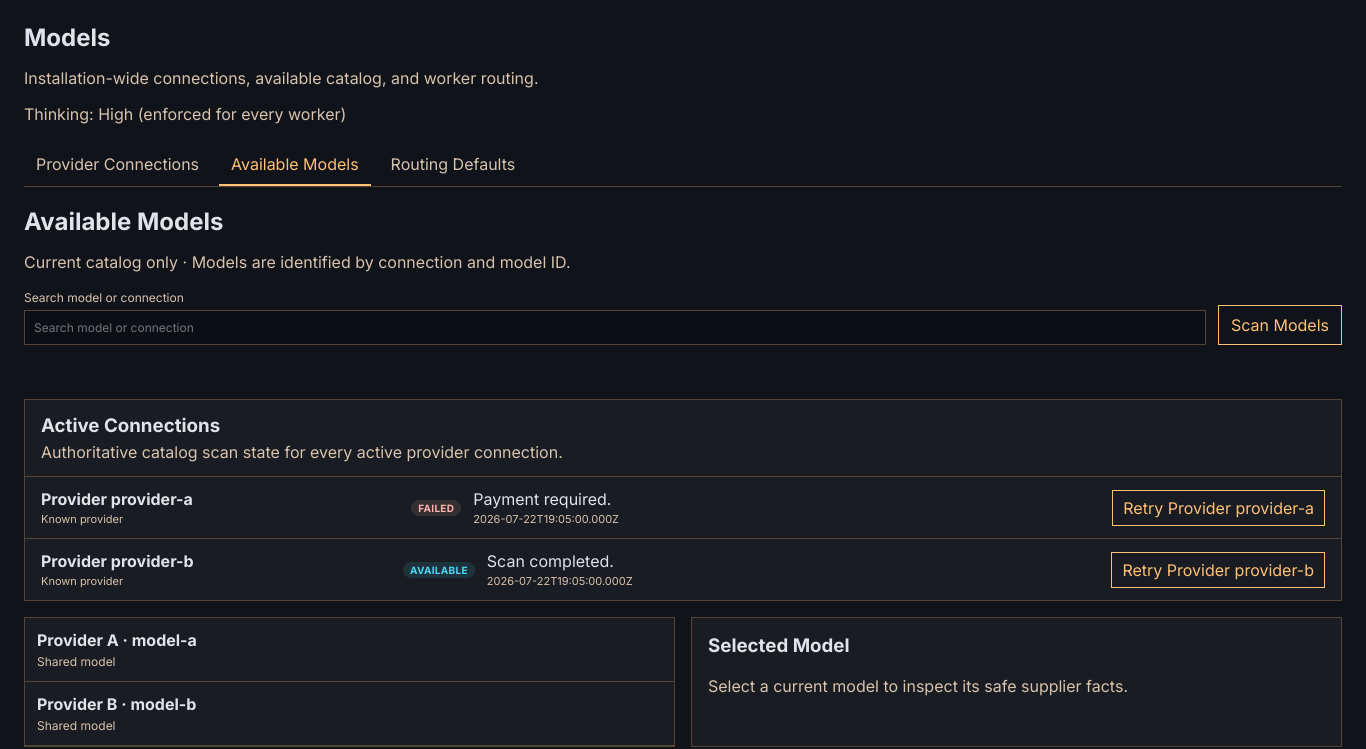
it: ModelsDestination › clears only a failed connection selection while retaining unaffected current models and safe diagnostics
The image size is (1366, 749).
Click the option "Provider A · model-a Shared model".
click(78, 640)  # box [25, 618, 674, 682]
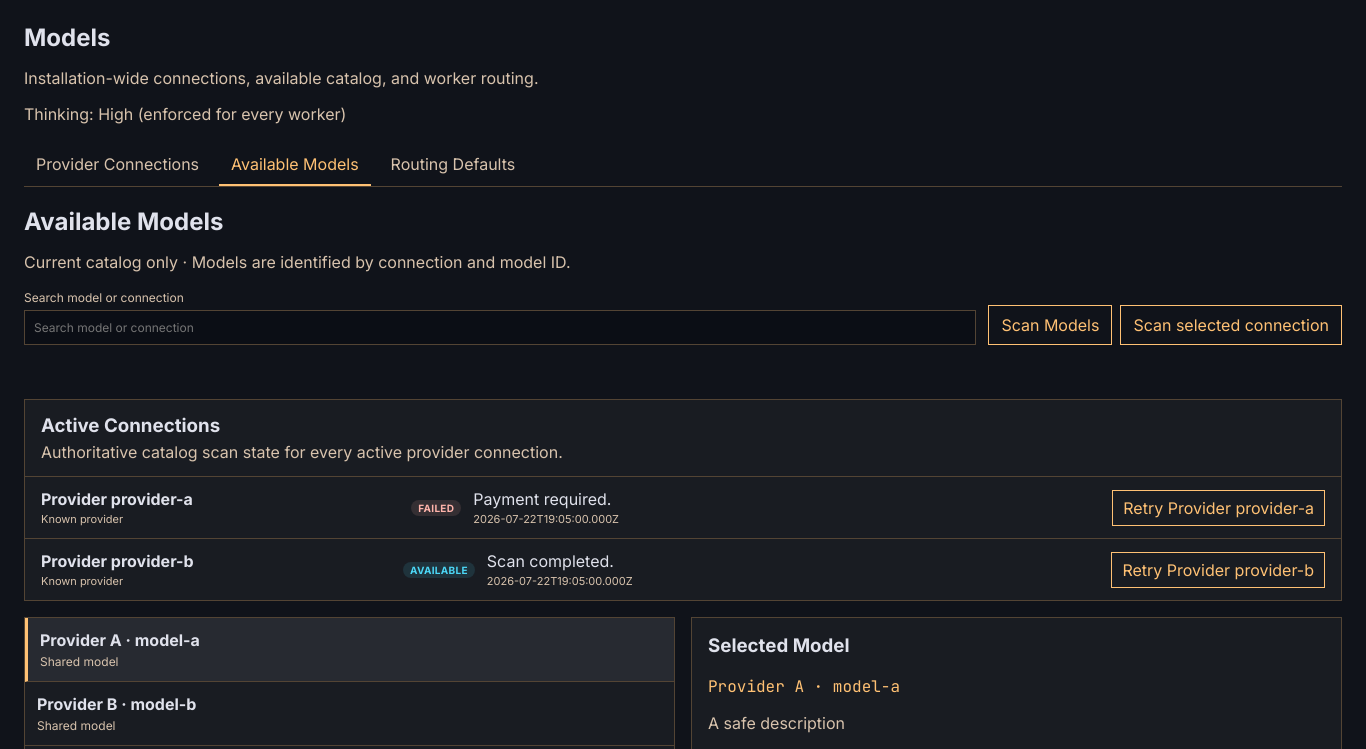
Check: the text "A safe description" is shown, box [708, 713, 845, 733]
Click the button "Scan selected connection".
click(1231, 325)  # box [1120, 305, 1342, 345]
(page scrolled)
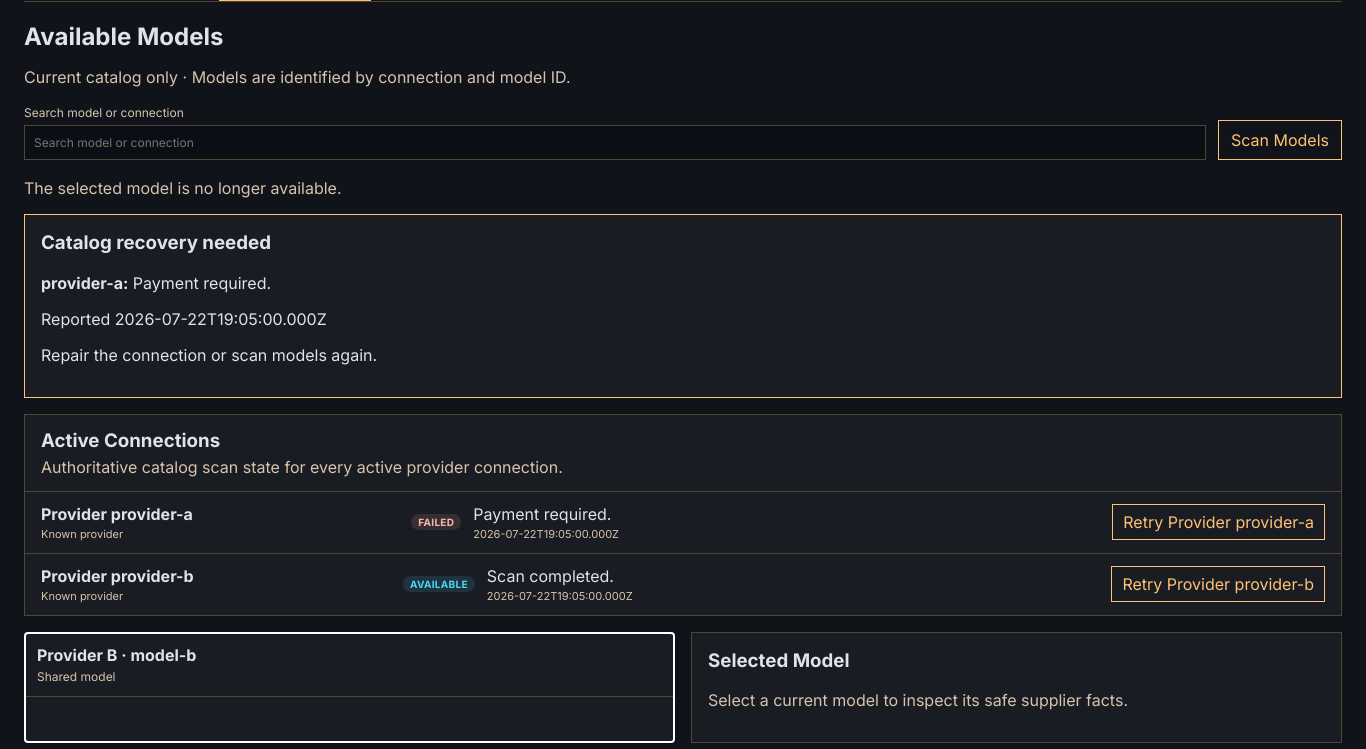
Check: the option "Provider A · model-a" is gone
Check: the text "A safe description" is gone
Check: the text "Payment required." is shown 2 times, box [41, 273, 271, 293]; [473, 504, 612, 524]
